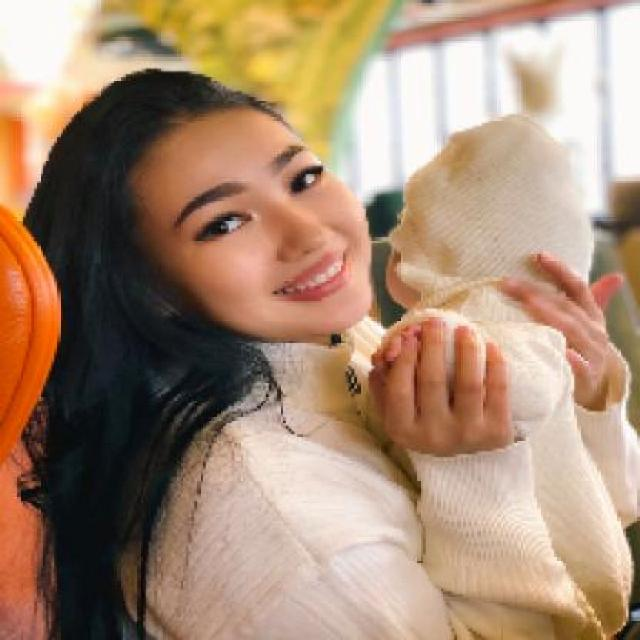child: (372, 112, 638, 638)
